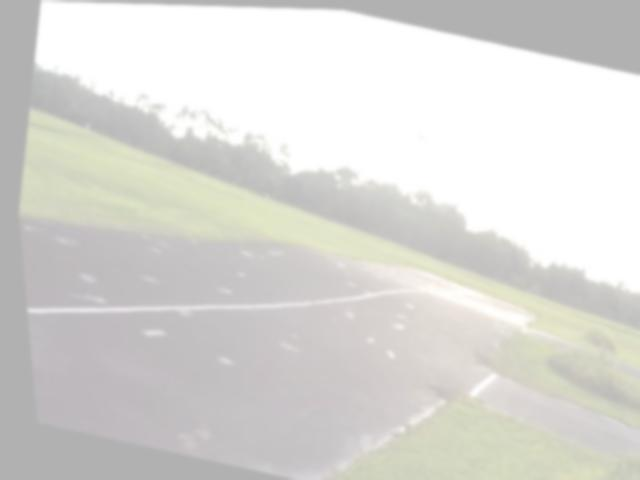uav: (392, 113, 447, 158)
